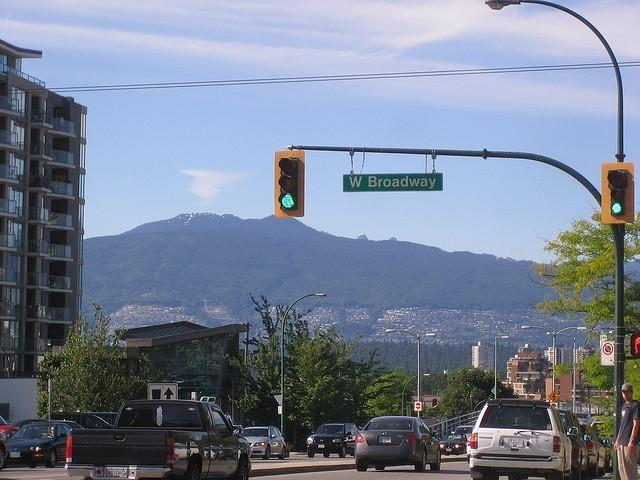car: (468, 397, 584, 480), (354, 417, 443, 476), (4, 422, 74, 468), (563, 411, 600, 476), (307, 422, 361, 458), (240, 425, 287, 460), (440, 434, 468, 456), (1, 414, 18, 441)
truck: (65, 400, 254, 480), (50, 413, 112, 429)
